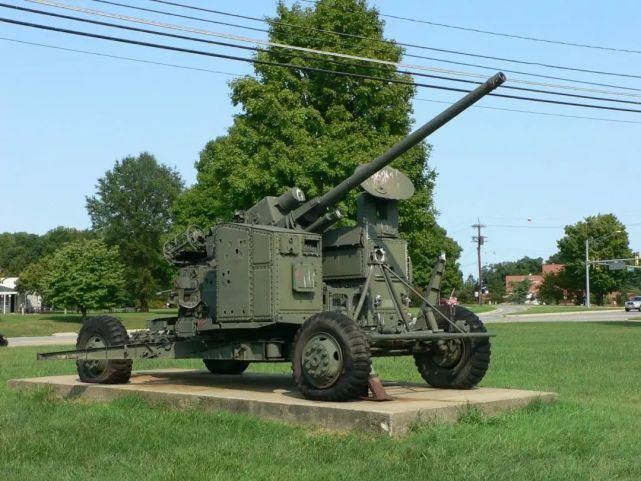MIL_SPG: (39, 73, 505, 401)
